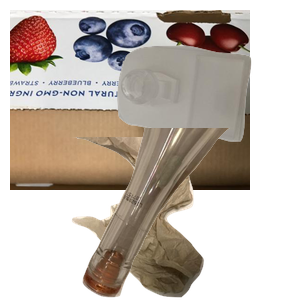cardboard: (10, 10, 250, 190)
glass: (80, 128, 300, 300)
plastic: (115, 43, 300, 177)
trash: (66, 137, 263, 300)
